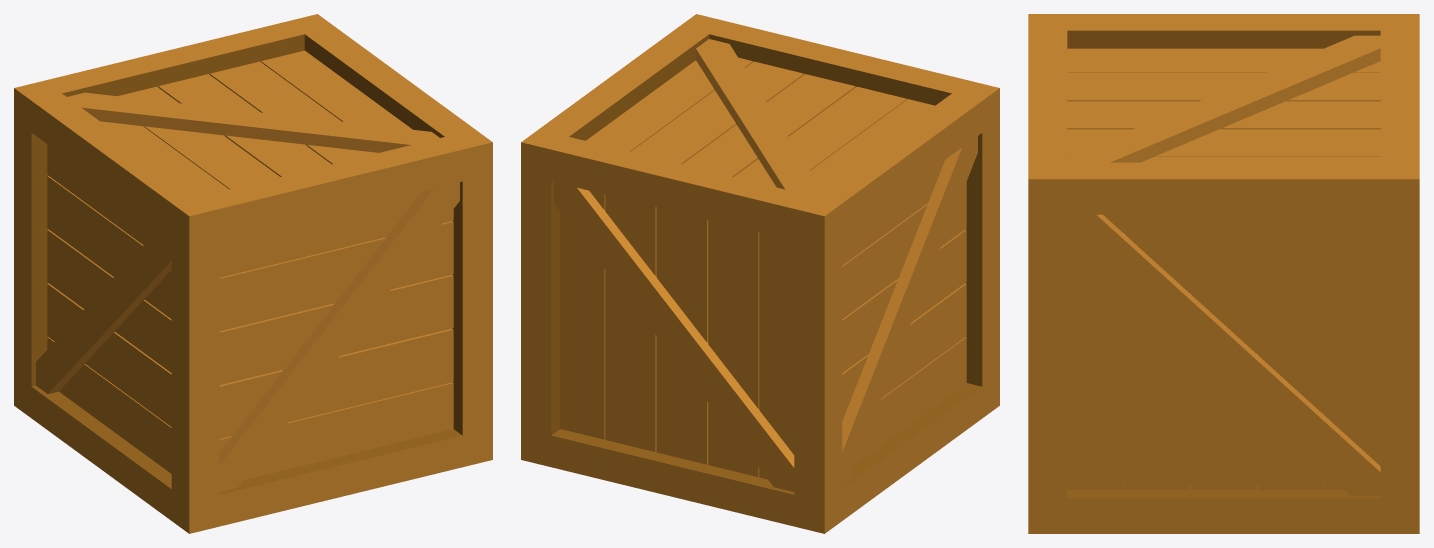
The model's file is crate01 .fbx.
3 renders of one model, left to right at view 1: azimuth 30°, elevation 25°; view 2: azimuth 150°, elevation 25°; view 3: azimuth 270°, elevation 25°, orthographic. The views are drawn at different scales.
Visible parts, largest first — view 1: crate.000; view 2: crate.000; view 3: crate.000.
Part boxes in pixels (x1,y1,x2,y2): crate.000: (14,14,492,533); crate.000: (521,14,999,533); crate.000: (1028,14,1419,533).
Size of the model in its own units: 200 by 200 by 200.
